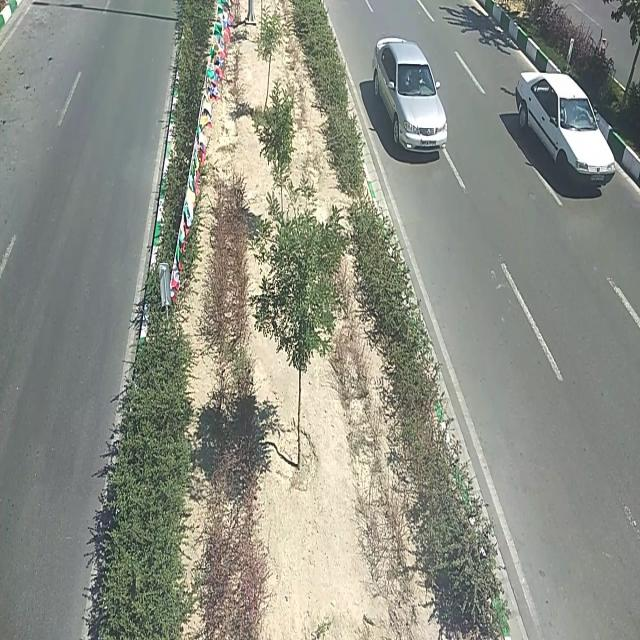car: (517, 74, 613, 188), (371, 35, 447, 152)
